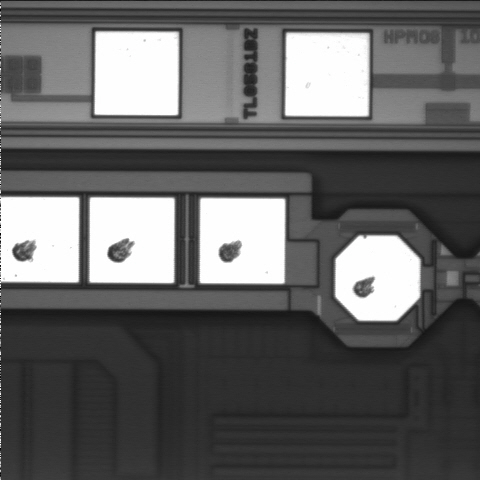pad: (200, 198, 285, 284), (335, 236, 420, 321), (90, 198, 174, 283), (95, 32, 179, 115), (285, 33, 369, 116)
